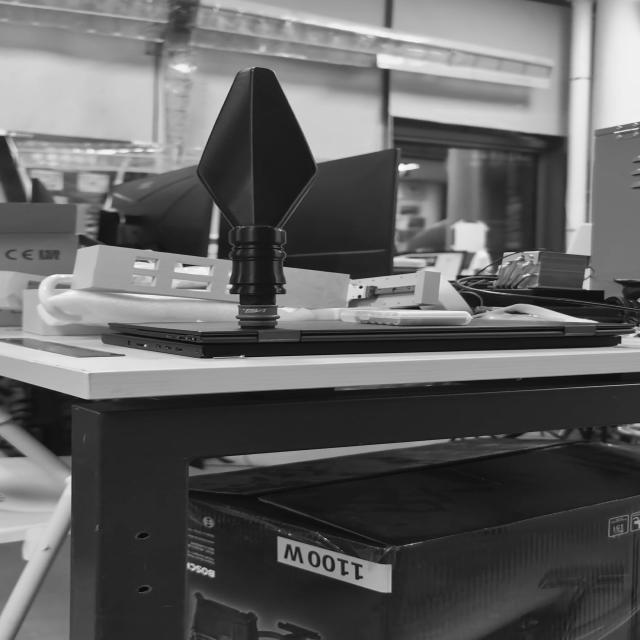base: (237, 303, 281, 330)
